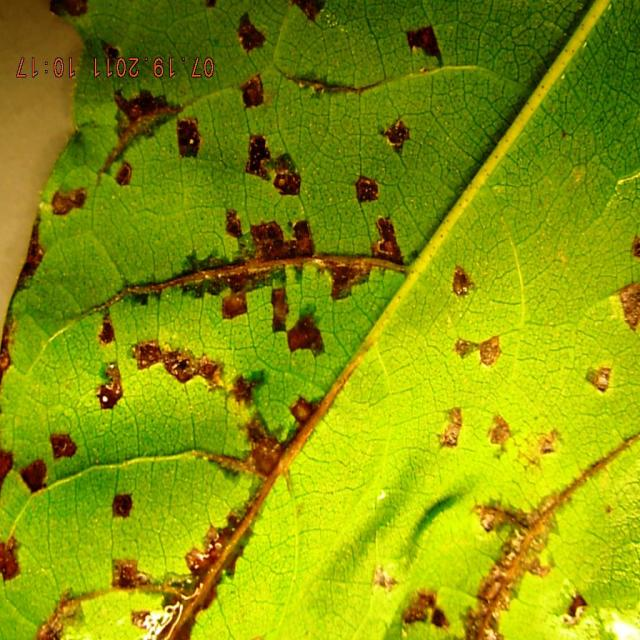Bacterial Blight: (116, 159, 352, 343)
